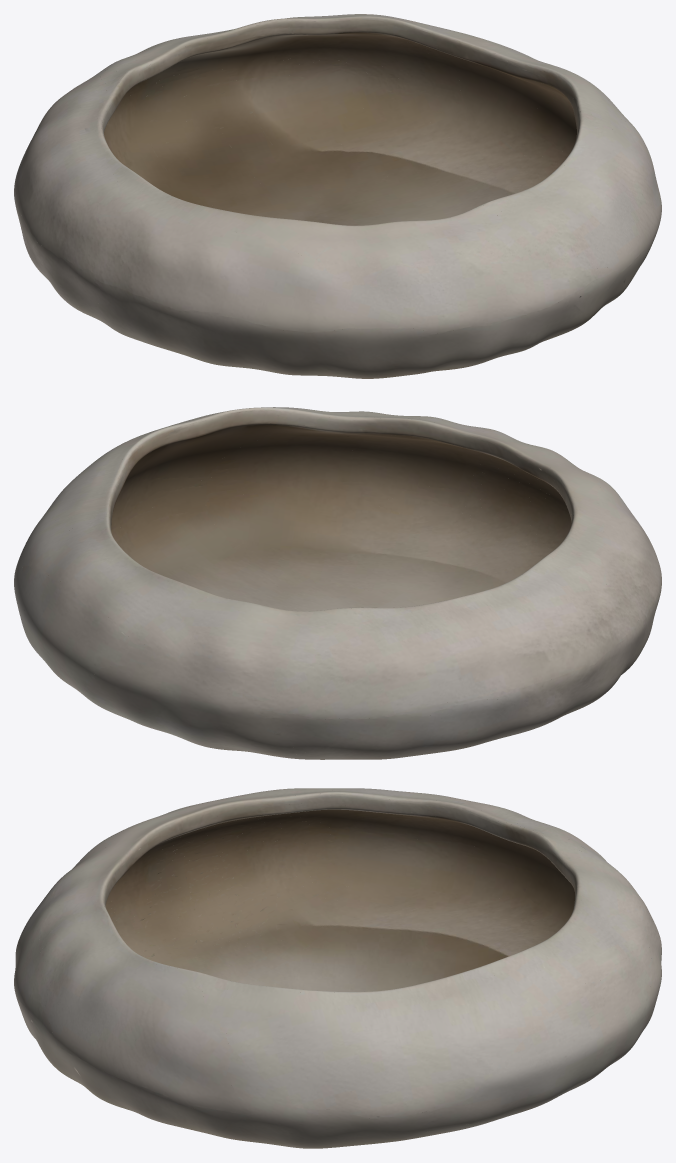
File: stone_bowl.glb
3 views of the same model, one above another, from view 1: azimuth 30°, elevation 25°; view 2: azimuth 150°, elevation 25°; view 3: azimuth 270°, elevation 25° (orthographic).
Parts seen in each view (by area): view 1: node_0; view 2: node_0; view 3: node_0.
Boxes of the visible parts, x1=… form: node_0: x1=14, y1=14, x2=661, y2=378; node_0: x1=14, y1=407, x2=661, y2=759; node_0: x1=14, y1=788, x2=661, y2=1148.
Bounding box in the file's own units: 1.19 × 0.3576 × 1.19.
1 material, 1 textured.
